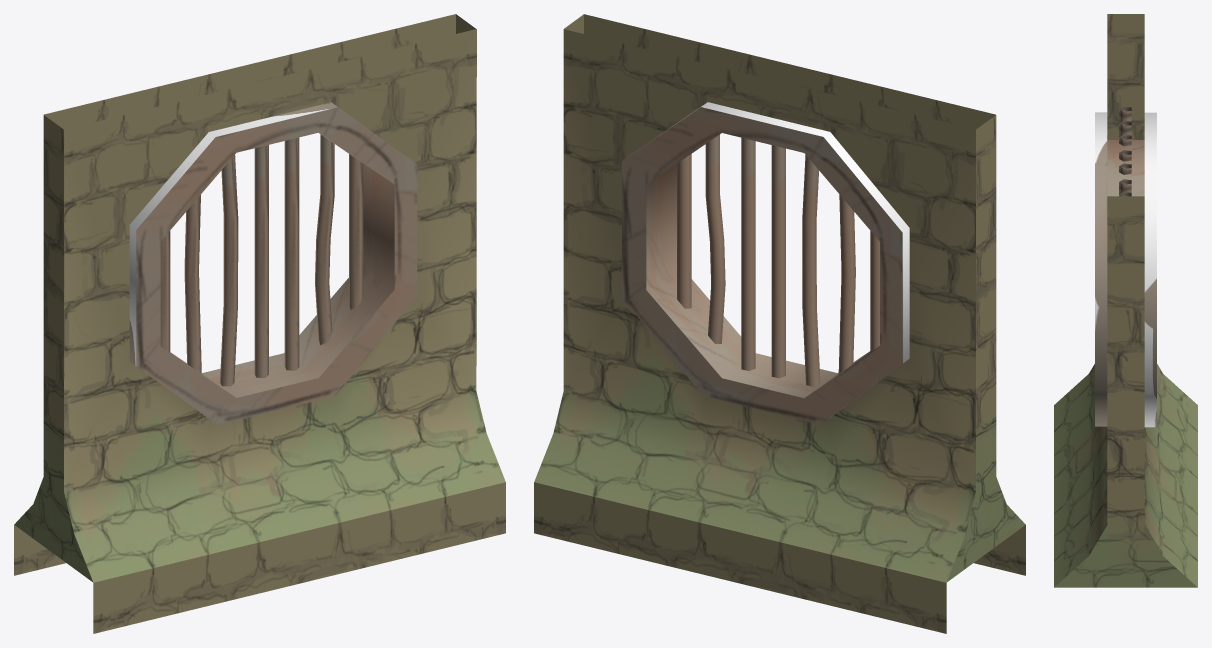
File: WallBaseSeeThrough.fbx
3 renders of one model, left to right at view 1: azimuth 30°, elevation 25°; view 2: azimuth 150°, elevation 25°; view 3: azimuth 270°, elevation 25°, orthographic. The views are drawn at different scales.
Visible parts, largest first — view 1: WallBaseSeeThrough; view 2: WallBaseSeeThrough; view 3: WallBaseSeeThrough.
Part boxes in pixels (x1=…): WallBaseSeeThrough: x1=14, y1=14, x2=505, y2=633; WallBaseSeeThrough: x1=534, y1=14, x2=1025, y2=633; WallBaseSeeThrough: x1=1054, y1=14, x2=1197, y2=587.
Size of the model in its own units: 300 by 336 by 100.
